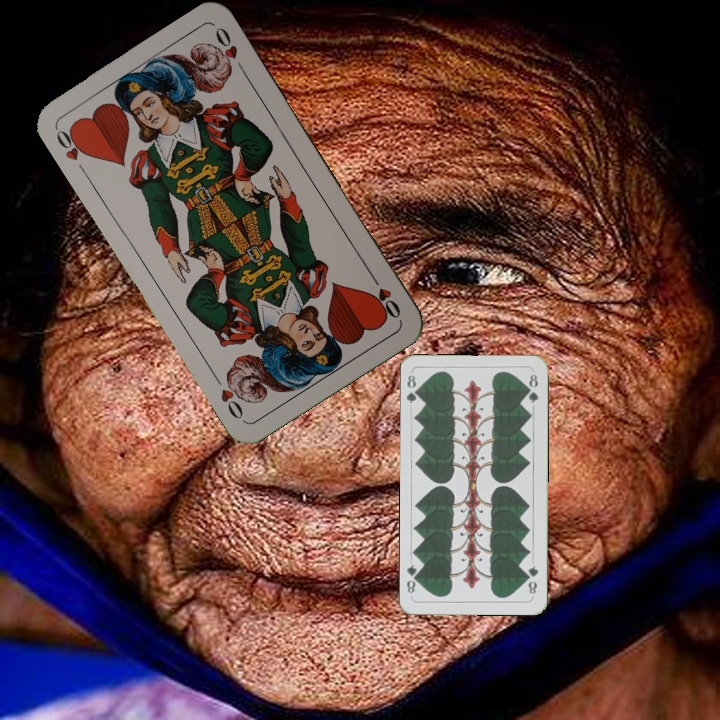G8: (403, 371, 423, 406), (523, 562, 541, 597)
HO: (365, 269, 404, 321), (51, 123, 92, 164)
